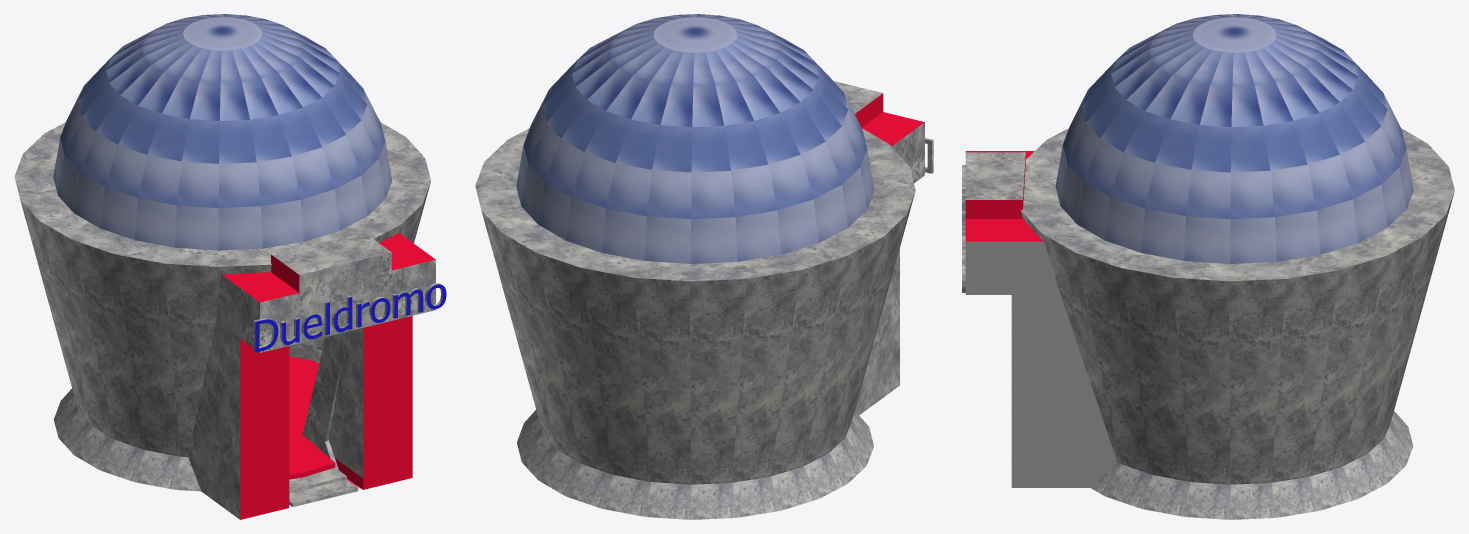
File: dueldromo.gltf
3 renders of one model, left to right at view 1: azimuth 30°, elevation 25°; view 2: azimuth 150°, elevation 25°; view 3: azimuth 270°, elevation 25°, orthographic. The views are drawn at different scales.
Parts seen in each view (by area): view 1: Dueldromo; view 2: Dueldromo; view 3: Dueldromo.
Boxes of the visible parts, x1,y1,x2,y2 form: Dueldromo: (14,14,446,519); Dueldromo: (475,14,933,519); Dueldromo: (962,14,1454,519).
Size of the model in its own units: 56.63 by 58.66 by 63.37.
Materials: 4 (2 with a texture image).
